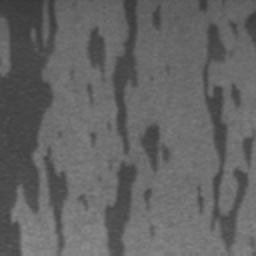Red iron sheet: (0, 0, 172, 256), (195, 10, 256, 256), (146, 224, 159, 241), (198, 0, 210, 14)
